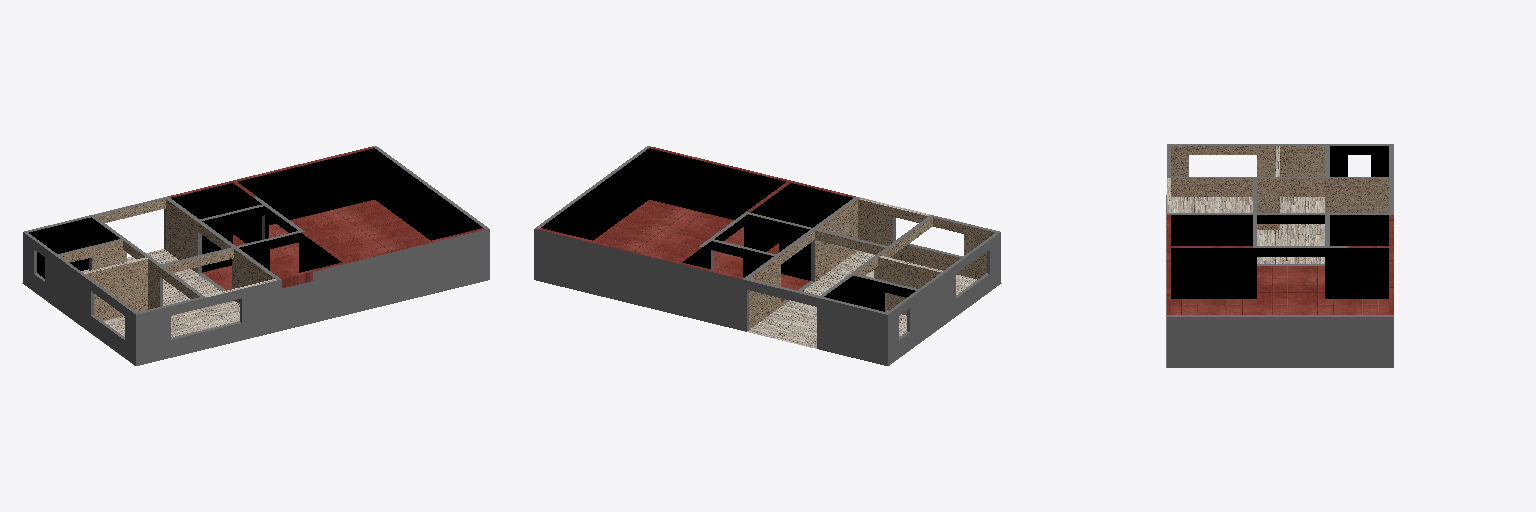
3 renders of one model, left to right at view 1: azimuth 30°, elevation 25°; view 2: azimuth 150°, elevation 25°; view 3: azimuth 270°, elevation 25°, orthographic.
Parts seen in each view (by area): view 1: polySurface128, polySurface57 polySurface55 polySurface53 polySurface50 polySurf, polySurface32 polySurface29 polySurface27 polySurface25 polySurf, polySurface50 polySurface48 polySurface46 polySurface44 polySurf, polySurface60 polySurface57 polySurface55 polySurface53 polySurf; view 2: polySurface128, polySurface57 polySurface55 polySurface53 polySurface50 polySurf, polySurface50 polySurface48 polySurface46 polySurface44 polySurf; view 3: polySurface128, polySurface57 polySurface55 polySurface53 polySurface50 polySurf, polySurface38 polySurface35 polySurface32 polySurface29 polySurf, polySurface48 polySurface46 polySurface44 polySurface42 polySurf.
Part boxes in pixels (x1,y1,x2,y2): polySurface128: (22, 146, 489, 365); polySurface57 polySurface55 polySurface53 polySurface50 polySurf: (27, 199, 453, 364); polySurface32 polySurface29 polySurface27 polySurface25 polySurf: (454, 239, 485, 288); polySurface50 polySurface48 polySurface46 polySurface44 polySurf: (232, 249, 265, 303); polySurface60 polySurface57 polySurface55 polySurface53 polySurf: (164, 249, 233, 272); polySurface128: (534, 146, 1001, 365); polySurface57 polySurface55 polySurface53 polySurface50 polySurf: (711, 215, 909, 357); polySurface50 polySurface48 polySurface46 polySurface44 polySurf: (815, 206, 848, 280); polySurface128: (1166, 144, 1393, 367); polySurface57 polySurface55 polySurface53 polySurface50 polySurf: (1166, 146, 1393, 367); polySurface38 polySurface35 polySurface32 polySurface29 polySurf: (1325, 248, 1388, 298); polySurface48 polySurface46 polySurface44 polySurface42 polySurf: (1257, 317, 1324, 367).
Size of the model in its own units: 1801 by 250 by 1000.
Materials: 76 (4 with a texture image).